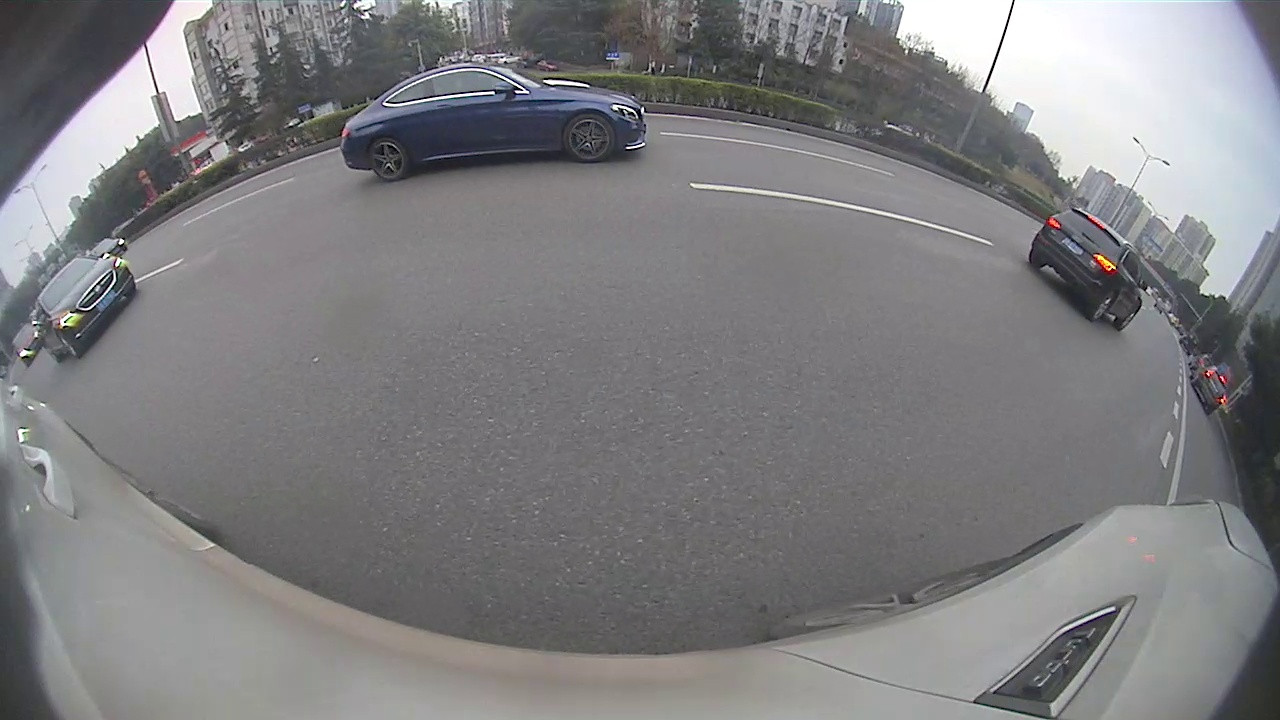car: (342, 61, 647, 183), (1030, 210, 1144, 331), (34, 255, 135, 359), (1190, 365, 1230, 416)
front: (562, 109, 618, 167)
rear: (366, 135, 413, 183), (1087, 287, 1117, 325)
